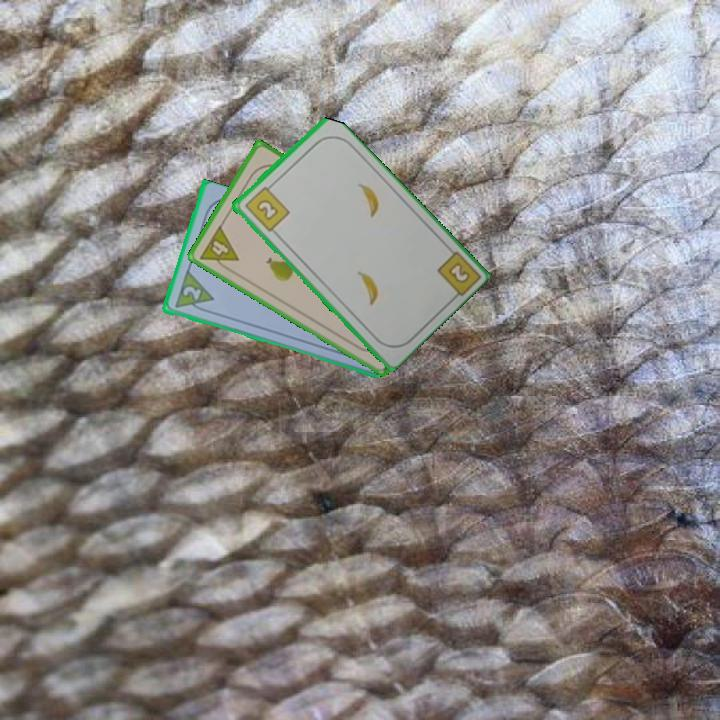2b: (241, 180, 292, 234), (444, 258, 473, 286)
2p: (171, 268, 216, 316)
4p: (196, 222, 242, 275)
